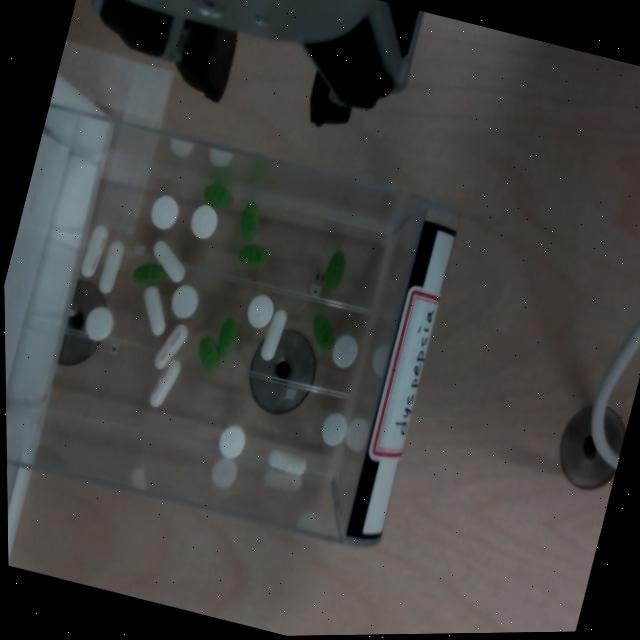magmil_tab: (84, 305, 113, 340), (170, 284, 198, 318), (150, 195, 178, 229), (190, 203, 217, 238), (218, 424, 245, 458), (246, 293, 273, 327), (331, 333, 357, 367), (320, 412, 346, 445)
medilacsenteric_tab: (149, 358, 180, 406), (154, 323, 187, 368), (80, 225, 107, 276), (152, 239, 184, 282), (260, 308, 286, 360), (98, 240, 124, 292), (143, 285, 165, 335), (267, 448, 306, 475)
nexilen_tab: (324, 250, 345, 289), (216, 317, 236, 357), (132, 261, 164, 286), (198, 335, 219, 371), (312, 313, 333, 349), (202, 183, 232, 208), (239, 202, 257, 240), (238, 243, 266, 266)
